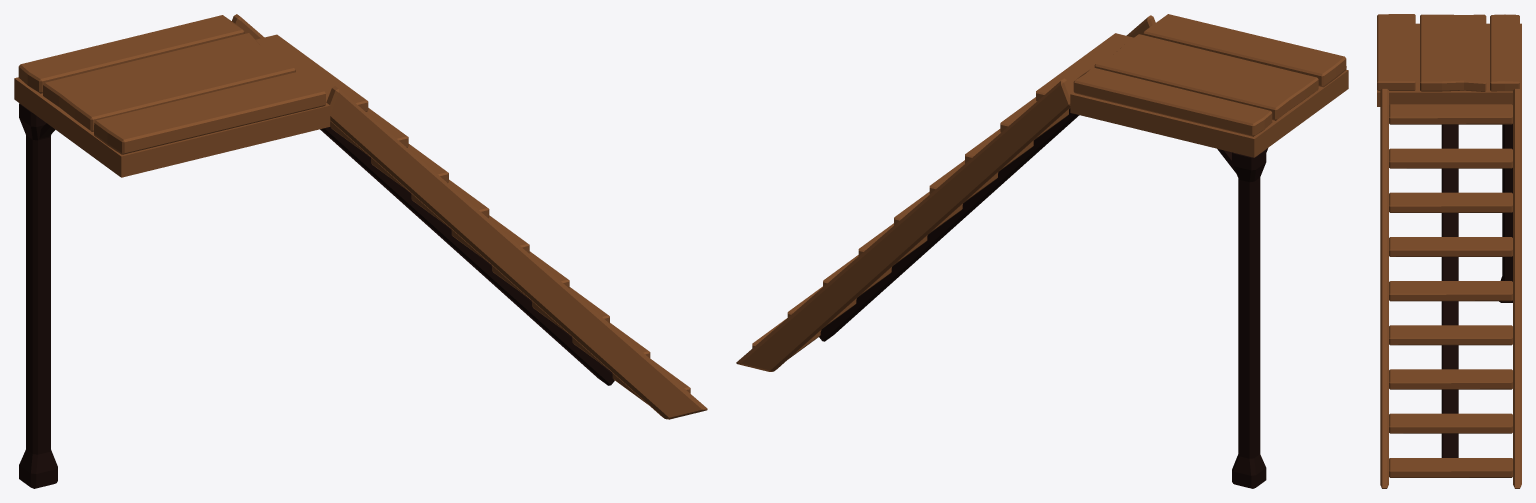
The model's file is ww_stairs_b.glb.
The picture shows the model from 3 angles, left to right: view 1: azimuth 30°, elevation 25°; view 2: azimuth 150°, elevation 25°; view 3: azimuth 270°, elevation 25°; orthographic projection. The views are drawn at different scales.
Parts seen in each view (by area): view 1: Stairs_B; view 2: Stairs_B; view 3: Stairs_B.
Boxes of the visible parts, left/top/right/bottom form: Stairs_B: left=14, top=14, right=707, bottom=488; Stairs_B: left=736, top=14, right=1348, bottom=488; Stairs_B: left=1377, top=14, right=1521, bottom=488.
Size of the model in its own units: 5.2 by 3.51 by 1.63.
